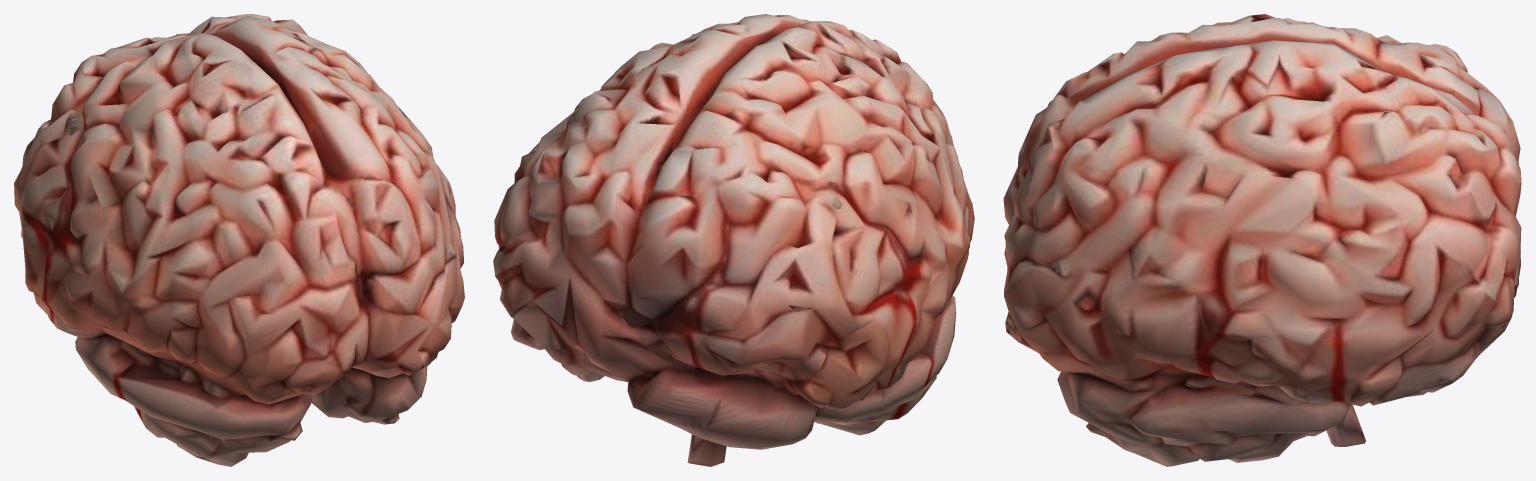
The model's file is halfbrain.glb.
The picture shows the model from 3 angles, left to right: view 1: azimuth 30°, elevation 25°; view 2: azimuth 150°, elevation 25°; view 3: azimuth 270°, elevation 25°; orthographic projection. The views are drawn at different scales.
Visible parts, largest first — view 1: Mesh_0; view 2: Mesh_0; view 3: Mesh_0.
Boxes of the visible parts, x1,y1,x2,y2 form: Mesh_0: (14,14,464,466); Mesh_0: (493,14,974,466); Mesh_0: (1003,14,1521,466).
Bounding box in the file's own units: 1.8 × 1.75 × 2.
1 material, 1 textured.
